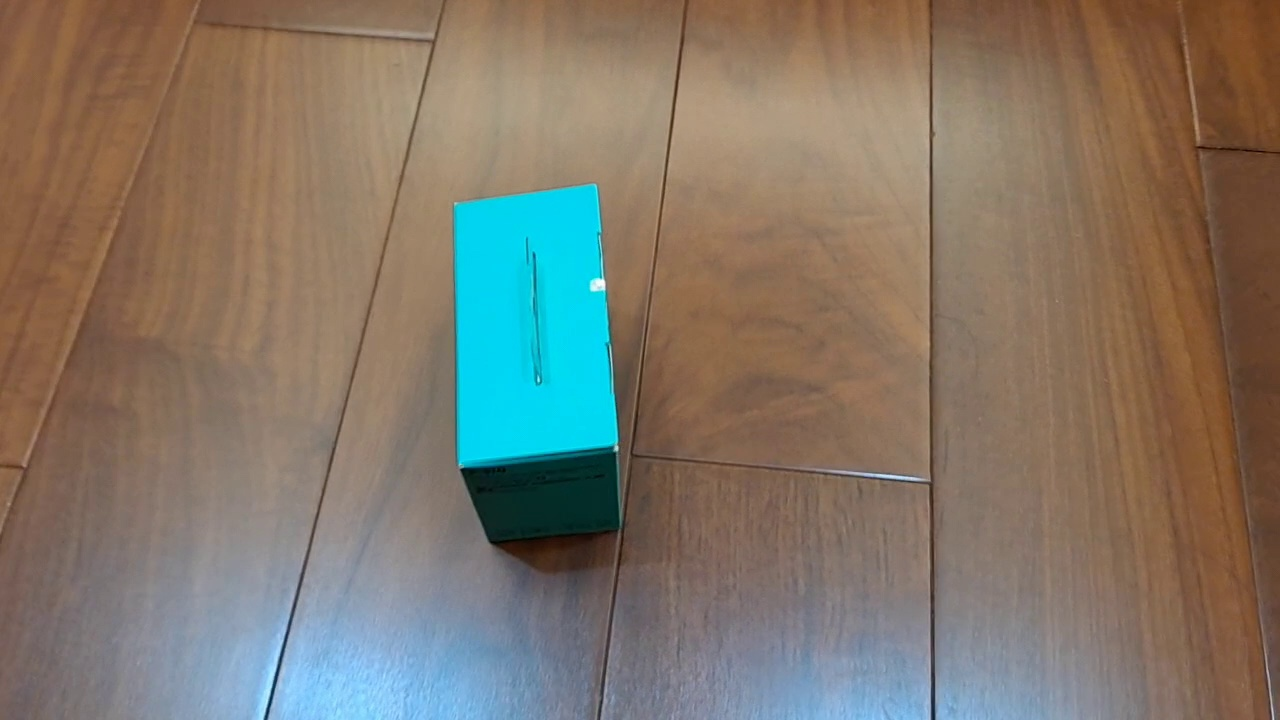webcam: (452, 181, 623, 544)
